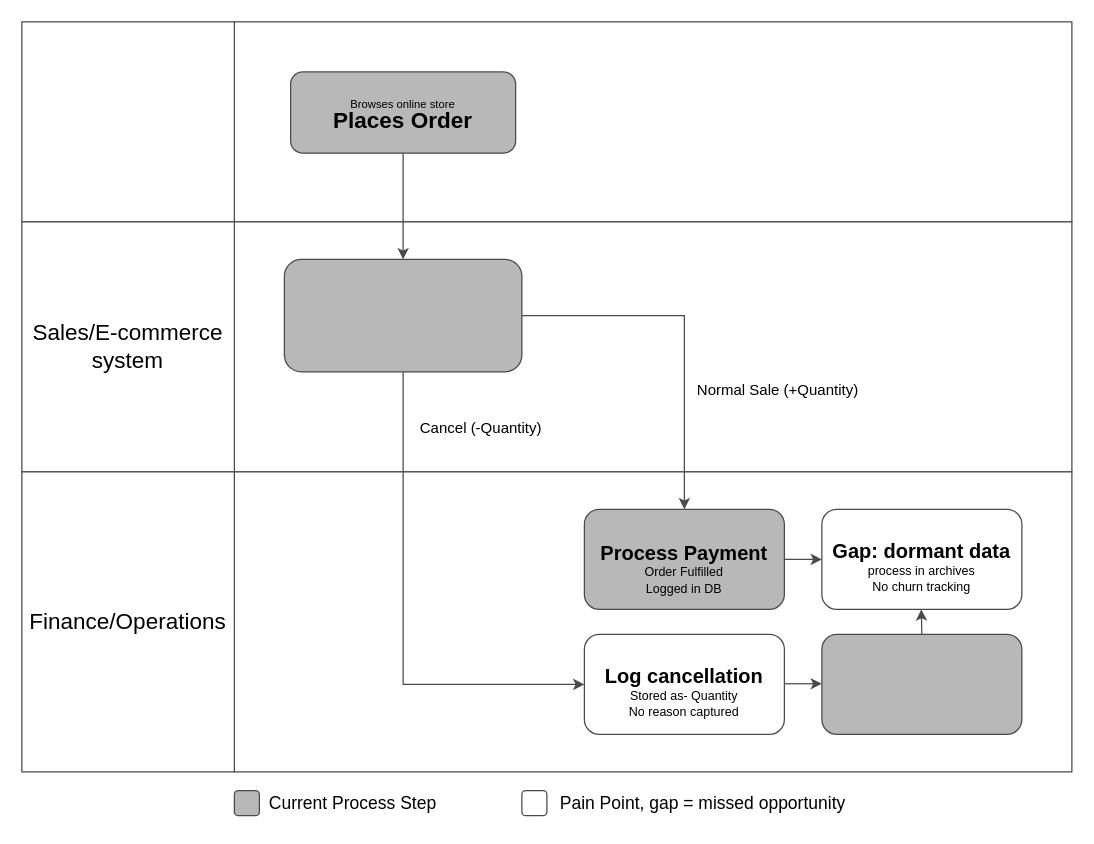
The diagram is 1094 pixels wide and 844 high, and some of its shapes have lost their labels. The shapes that lost their labels are listed below. From the top down, each one's centre as x and y in pixels, then its label:
the point at 127,121: Customer
the point at 402,315: Generate Invoice No StockCode, Quantity, Unit Price, CustomerID
the point at 921,683: Manual Credit Issued by Finance
